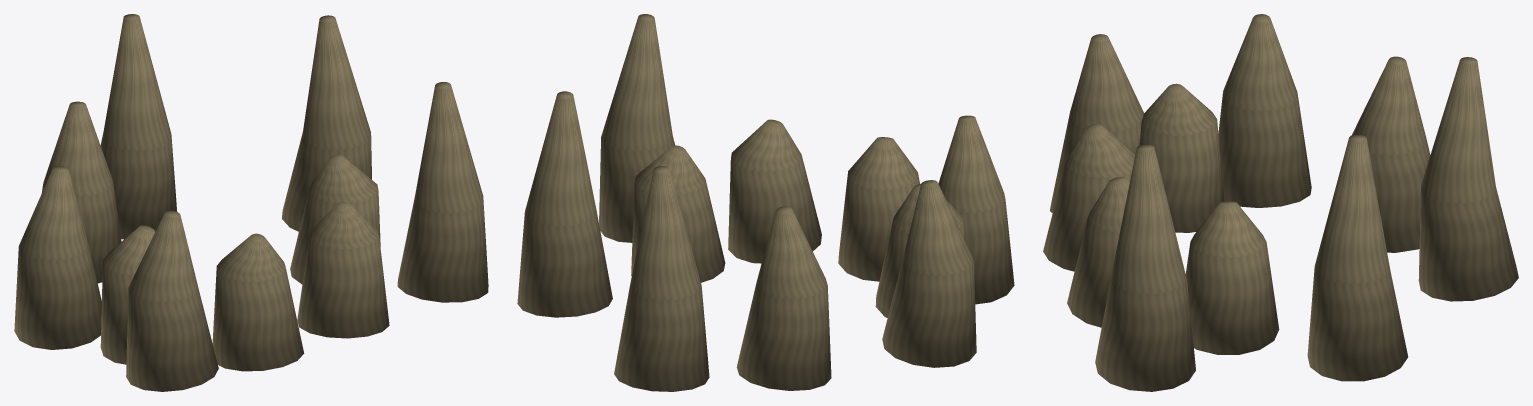
File: large_cypress_knee_cluster_swamp_and_mangrove_22615.glb
3 renders of one model, left to right at view 1: azimuth 30°, elevation 25°; view 2: azimuth 150°, elevation 25°; view 3: azimuth 270°, elevation 25°, orthographic. The views are drawn at different scales.
Visible parts, largest first — view 1: cypress-knees-3; view 2: cypress-knees-3; view 3: cypress-knees-3.
Part boxes in pixels (x1,y1,x2,y2): cypress-knees-3: (14, 14, 488, 391); cypress-knees-3: (517, 14, 1014, 391); cypress-knees-3: (1043, 14, 1518, 391).
Size of the model in its own units: 2.03 by 0.9719 by 1.87.
Materials: 1 (1 with a texture image).
